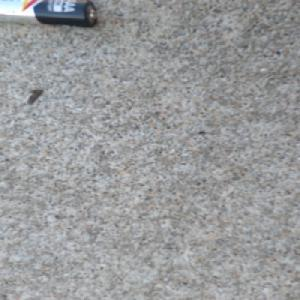Battery: (0, 0, 99, 27)
